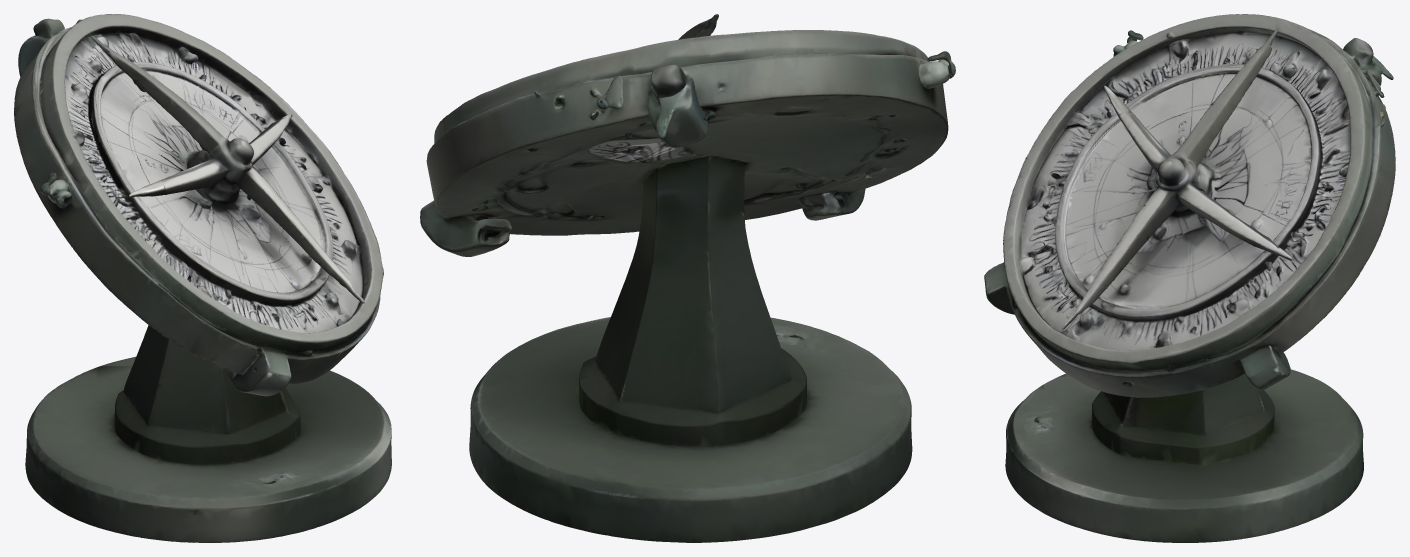
Rendered from prop-sundial-small.glb.
3 renders of one model, left to right at view 1: azimuth 30°, elevation 25°; view 2: azimuth 150°, elevation 25°; view 3: azimuth 270°, elevation 25°, orthographic. The views are drawn at different scales.
Parts seen in each view (by area): view 1: tripo_node_bb1ea8e9-793b-4252-b124-a1307e57ea25; view 2: tripo_node_bb1ea8e9-793b-4252-b124-a1307e57ea25; view 3: tripo_node_bb1ea8e9-793b-4252-b124-a1307e57ea25.
Part boxes in pixels (x1=…): tripo_node_bb1ea8e9-793b-4252-b124-a1307e57ea25: x1=14, y1=14, x2=391, y2=542; tripo_node_bb1ea8e9-793b-4252-b124-a1307e57ea25: x1=420, y1=14, x2=955, y2=542; tripo_node_bb1ea8e9-793b-4252-b124-a1307e57ea25: x1=984, y1=14, x2=1395, y2=542.
Size of the model in its own units: 1.13 by 1.2 by 1.1.
1 material, 1 textured.
